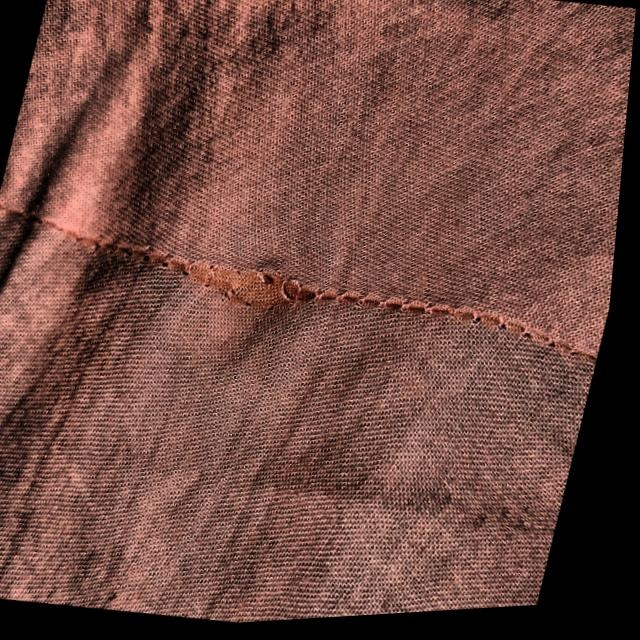seam: (63, 182, 392, 378)
